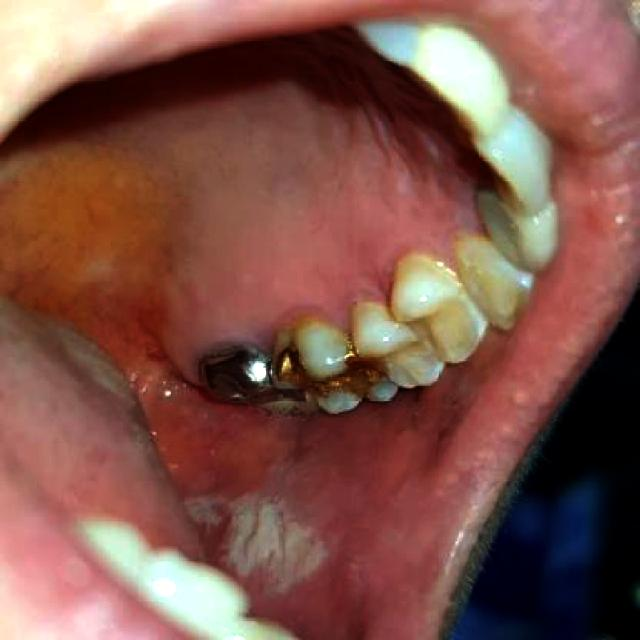Plaque: (283, 332, 299, 351)
